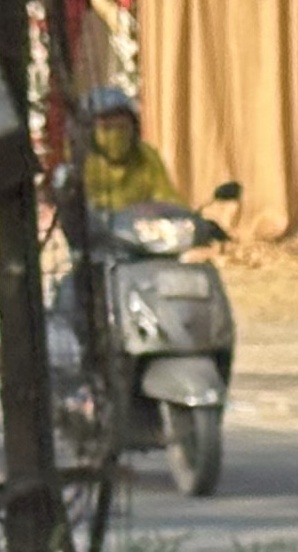BikeWithRider: (24, 72, 257, 497)
Helmet: (73, 84, 152, 166)
